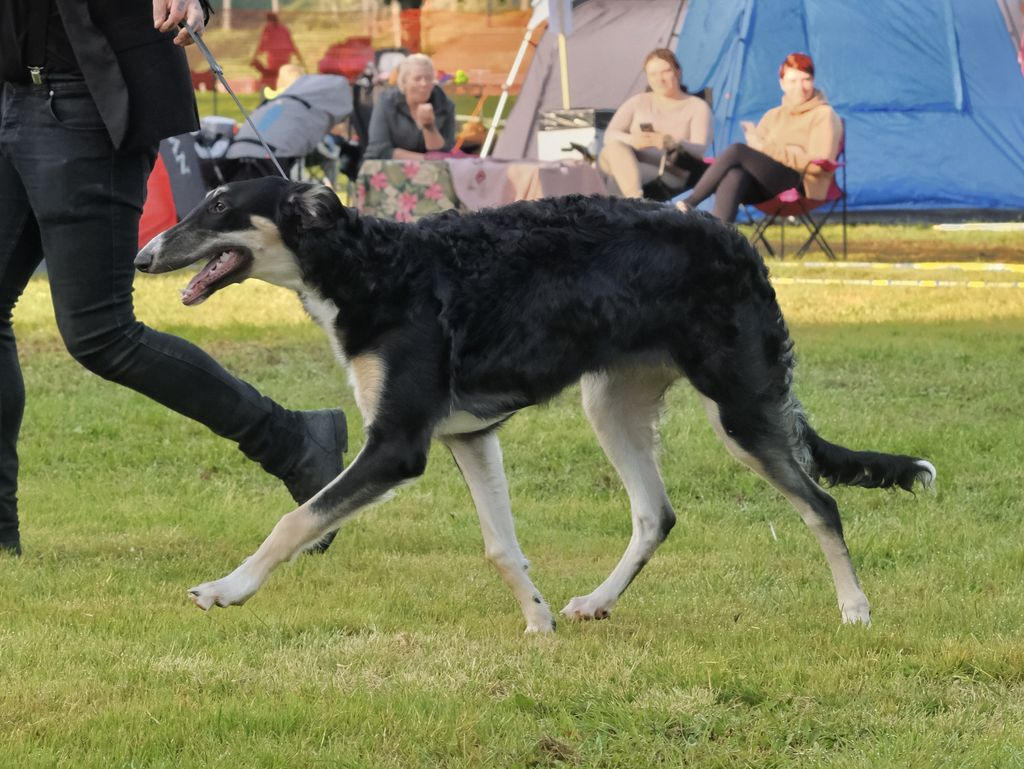borzoi: (123, 167, 962, 644)
